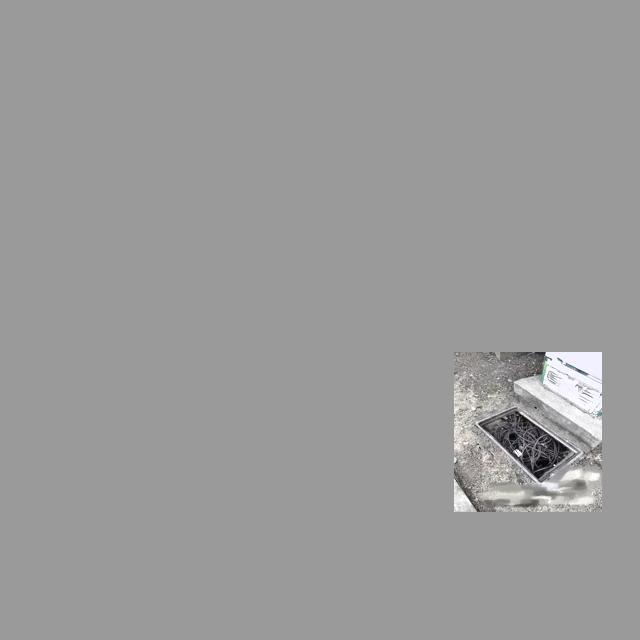lose: (475, 408, 586, 465)
